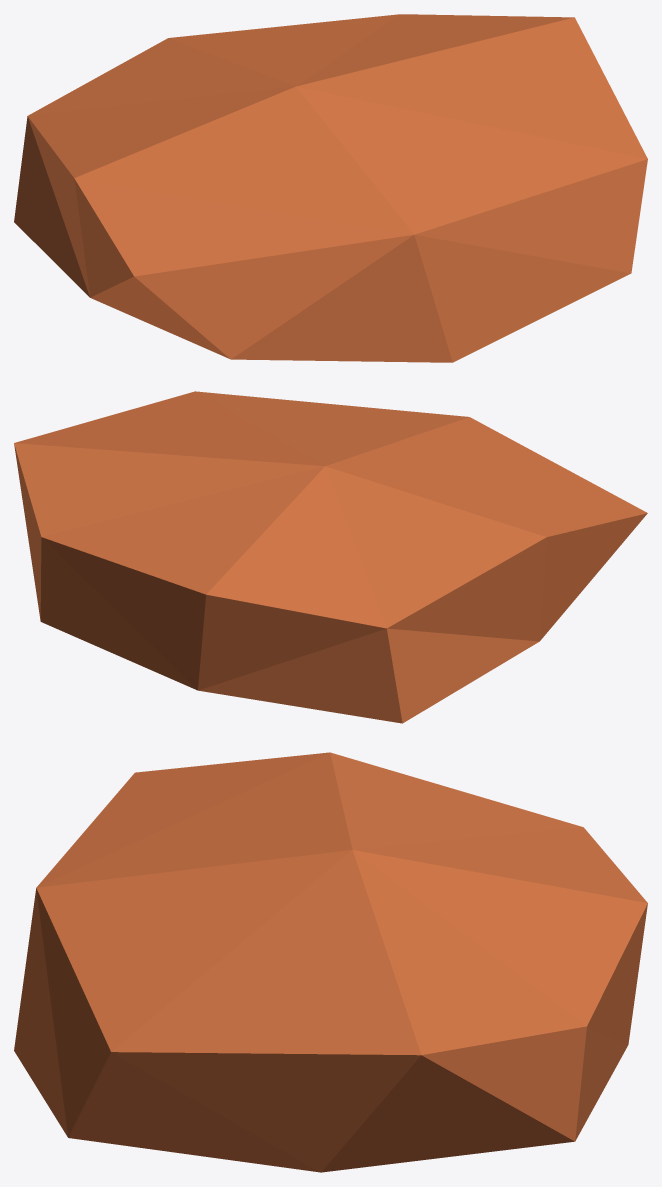
Rendered from Sandstone 2.fbx.
The picture shows the model from 3 angles, top to bottom: view 1: azimuth 30°, elevation 25°; view 2: azimuth 150°, elevation 25°; view 3: azimuth 270°, elevation 25°; orthographic projection. The views are drawn at different scales.
Visible parts, largest first — view 1: Sandstone Size 2; view 2: Sandstone Size 2; view 3: Sandstone Size 2.
Boxes of the visible parts, x1,y1,x2,y2 form: Sandstone Size 2: (14, 14, 647, 362); Sandstone Size 2: (14, 391, 647, 723); Sandstone Size 2: (14, 752, 647, 1172).
Bounding box in the file's own units: 243 × 79.12 × 206.
